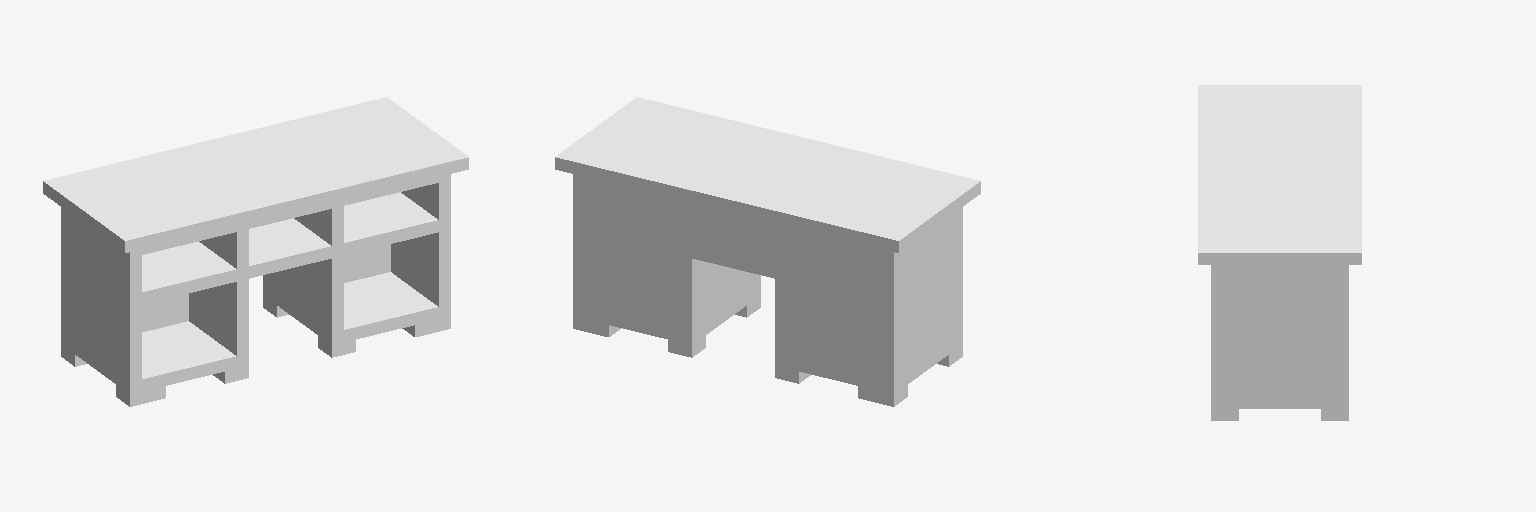
The model's file is Desk.obj.
The picture shows the model from 3 angles: view 1: azimuth 30°, elevation 25°; view 2: azimuth 150°, elevation 25°; view 3: azimuth 270°, elevation 25°; orthographic projection.
Bounding box in the file's own units: 29 × 14 × 12.